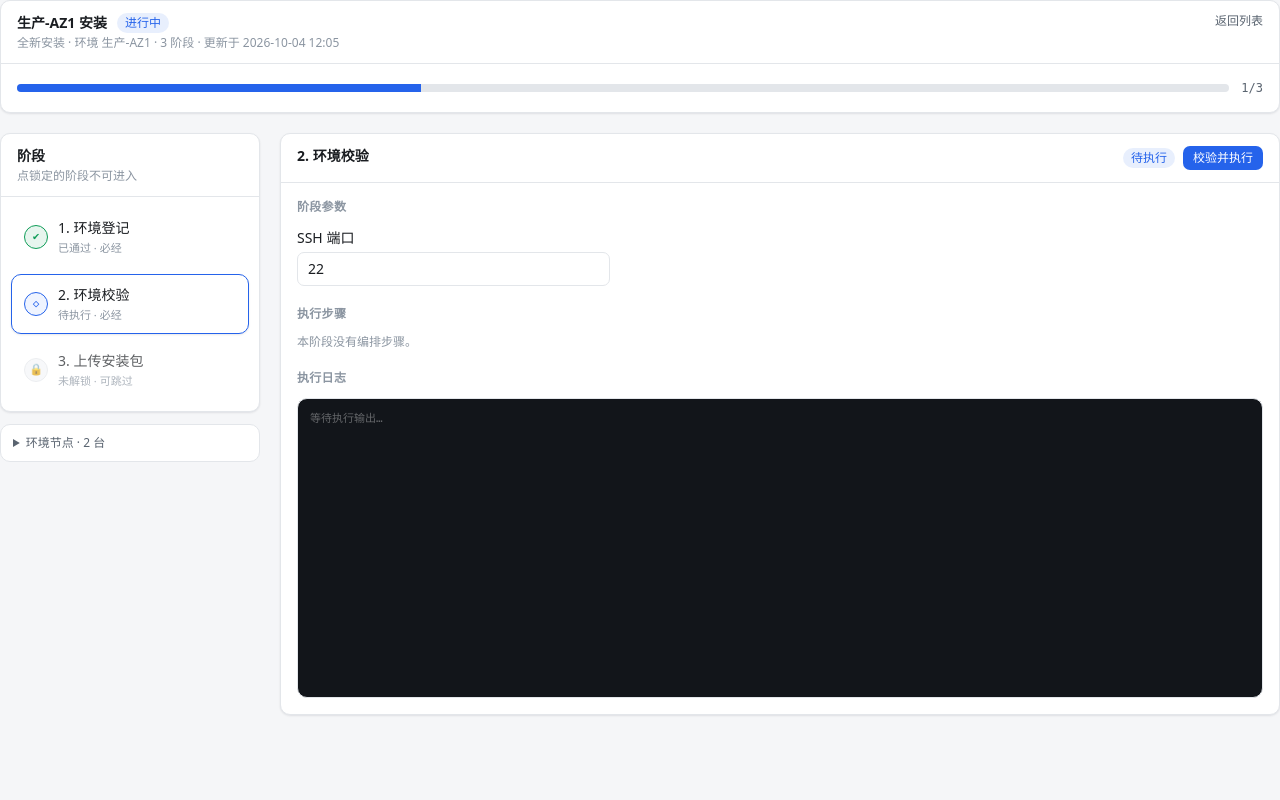
Test case: FlowWizard 页头与落点 › 节点折叠区展开后是只读矩阵
This screenshot has width=1280, height=800.
Expected: the text "生产-AZ1 安装" is shown, [17,13,107,32]
Click the heading "环境节点 · 2 台". click: (65, 442)
box: [26,434,105,450]
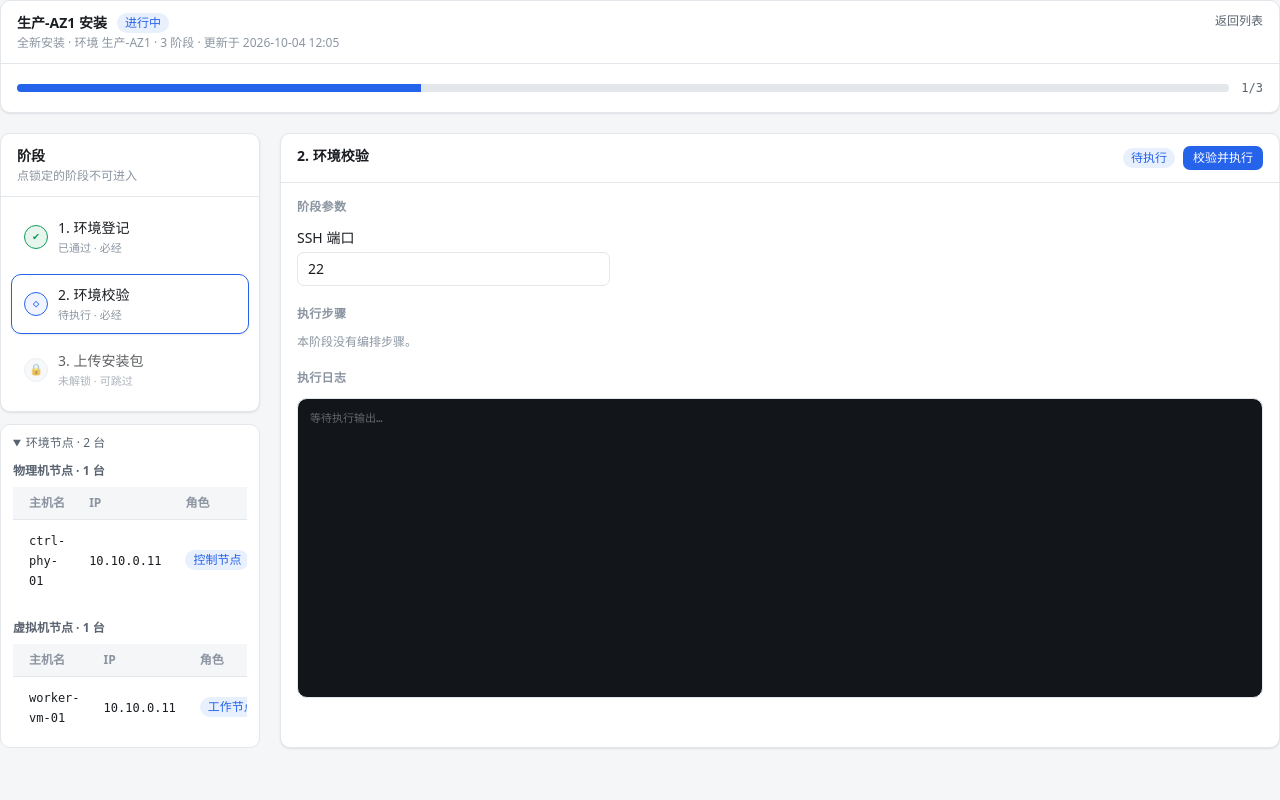
Expected: the heading "物理机节点 · 1 台" is shown, [13,462,105,478]
Expected: the heading "虚拟机节点 · 1 台" is shown, [13,618,105,636]
Expected: the text "ctrl-phy-01" is shown, [29,534,65,588]
